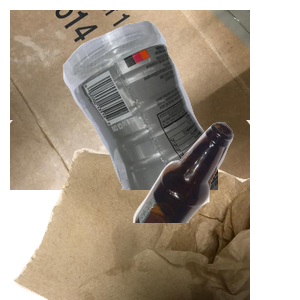cardboard: (10, 10, 250, 190)
glass: (130, 120, 300, 300)
plastic: (60, 18, 300, 198)
trash: (10, 120, 250, 300)
